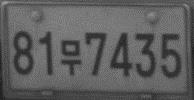1: (38, 29, 54, 77)
3: (133, 31, 156, 77)
4: (109, 30, 132, 78)
5: (159, 32, 183, 78)
7: (84, 31, 107, 77)
8: (12, 30, 34, 76)
무: (59, 38, 83, 78)
